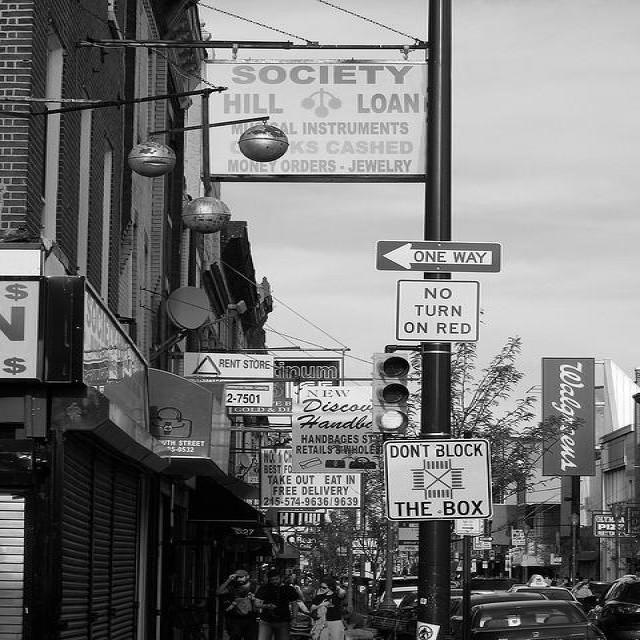vehicle: (471, 600, 613, 640), (451, 593, 551, 639), (593, 576, 639, 640), (508, 584, 584, 608), (469, 576, 511, 595), (380, 588, 418, 607), (589, 579, 613, 595), (392, 576, 418, 590), (451, 589, 463, 603)
